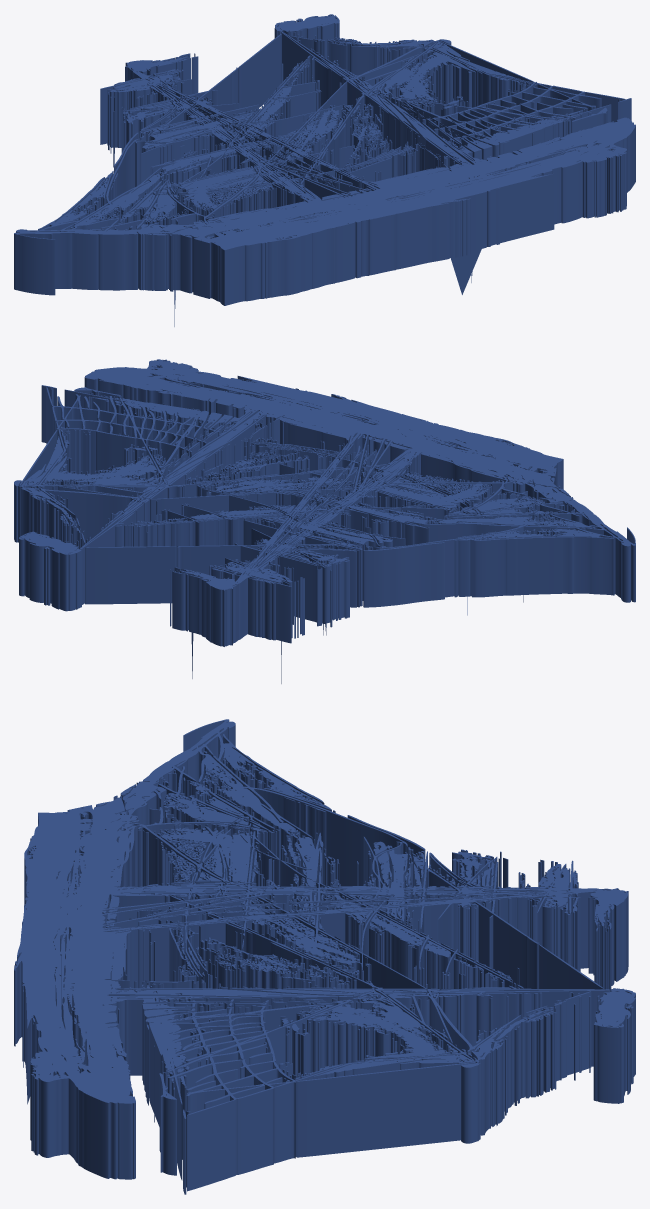
File: boat.fbx
3 renders of one model, top to bottom at view 1: azimuth 30°, elevation 25°; view 2: azimuth 150°, elevation 25°; view 3: azimuth 270°, elevation 25°, orthographic. The views are drawn at different scales.
Parts seen in each view (by area): view 1: Curve; view 2: Curve; view 3: Curve.
Part boxes in pixels (<box>): Curve: <box>14,14,635,326</box>; Curve: <box>14,359,635,683</box>; Curve: <box>14,719,635,1194</box>.
Size of the model in its own units: 317 by 56.24 by 209.
